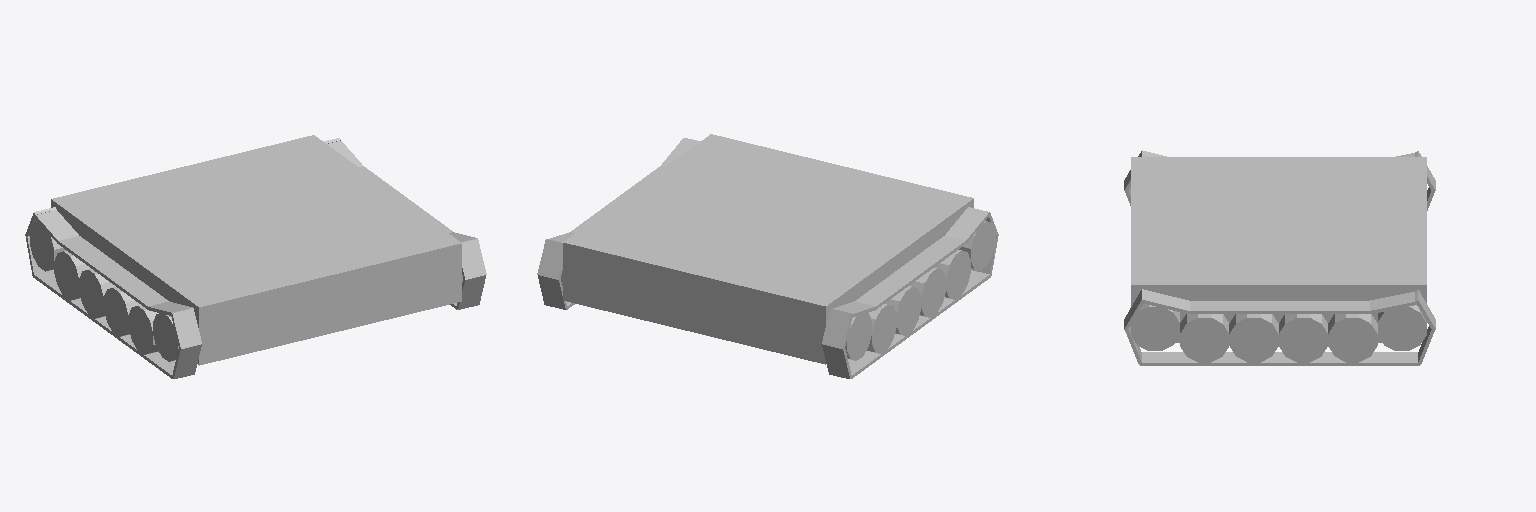
The model's file is mediumTankBase.obj.
3 views of the same model, side by side, from view 1: azimuth 30°, elevation 25°; view 2: azimuth 150°, elevation 25°; view 3: azimuth 270°, elevation 25° (orthographic).
Visible parts, largest first — view 1: cube, cylinder; view 2: cube, cylinder; view 3: cube, cylinder.
Boxes of the visible parts, x1,y1,x2,y2 form: cube: [25, 135, 486, 378]; cylinder: [30, 222, 462, 361]; cube: [537, 134, 998, 378]; cylinder: [561, 221, 995, 360]; cube: [1124, 150, 1435, 365]; cylinder: [1131, 304, 1426, 362].
Bounding box in the file's own units: 0.8937 × 0.1969 × 0.7889.